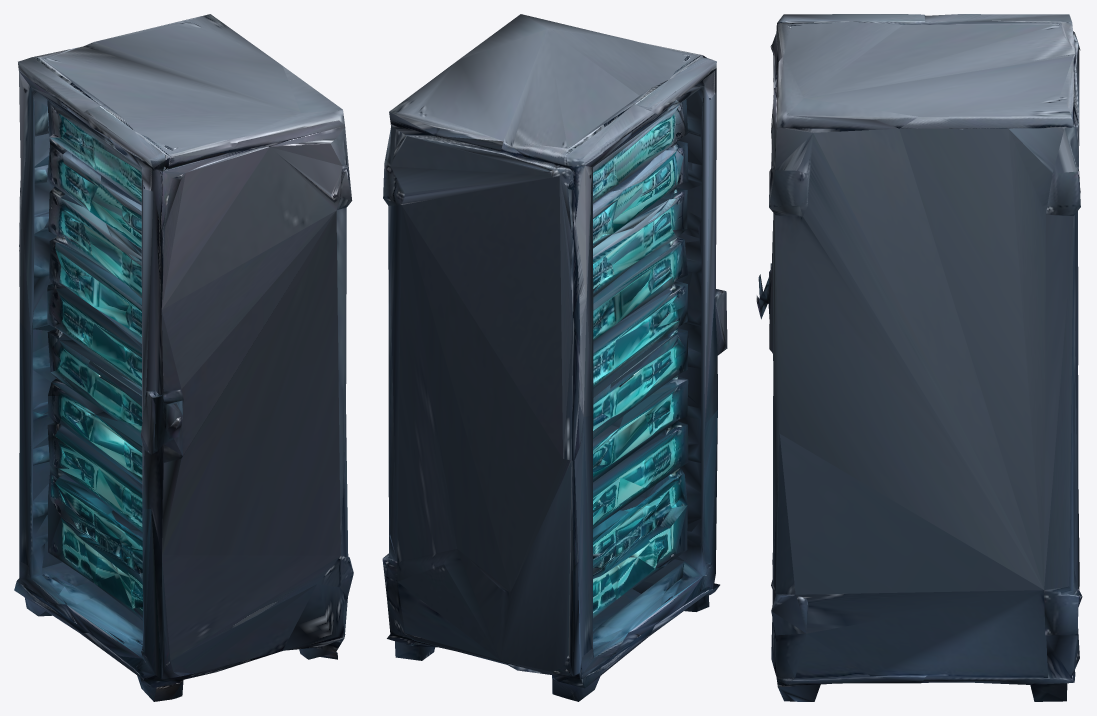
Rendered from rack.glb.
3 views of the same model, side by side, from view 1: azimuth 30°, elevation 25°; view 2: azimuth 150°, elevation 25°; view 3: azimuth 270°, elevation 25° (orthographic). The views are drawn at different scales.
Visible parts, largest first — view 1: tripo_node_ee500426-1321-469a-a0e1-3a1ae3923f75; view 2: tripo_node_ee500426-1321-469a-a0e1-3a1ae3923f75; view 3: tripo_node_ee500426-1321-469a-a0e1-3a1ae3923f75.
Boxes of the visible parts, x1,y1,x2,y2 form: tripo_node_ee500426-1321-469a-a0e1-3a1ae3923f75: [14, 14, 353, 701]; tripo_node_ee500426-1321-469a-a0e1-3a1ae3923f75: [382, 14, 727, 701]; tripo_node_ee500426-1321-469a-a0e1-3a1ae3923f75: [756, 14, 1082, 701].
Size of the model in its own units: 0.3912 by 1 by 0.4996.
Materials: 1 (1 with a texture image).
